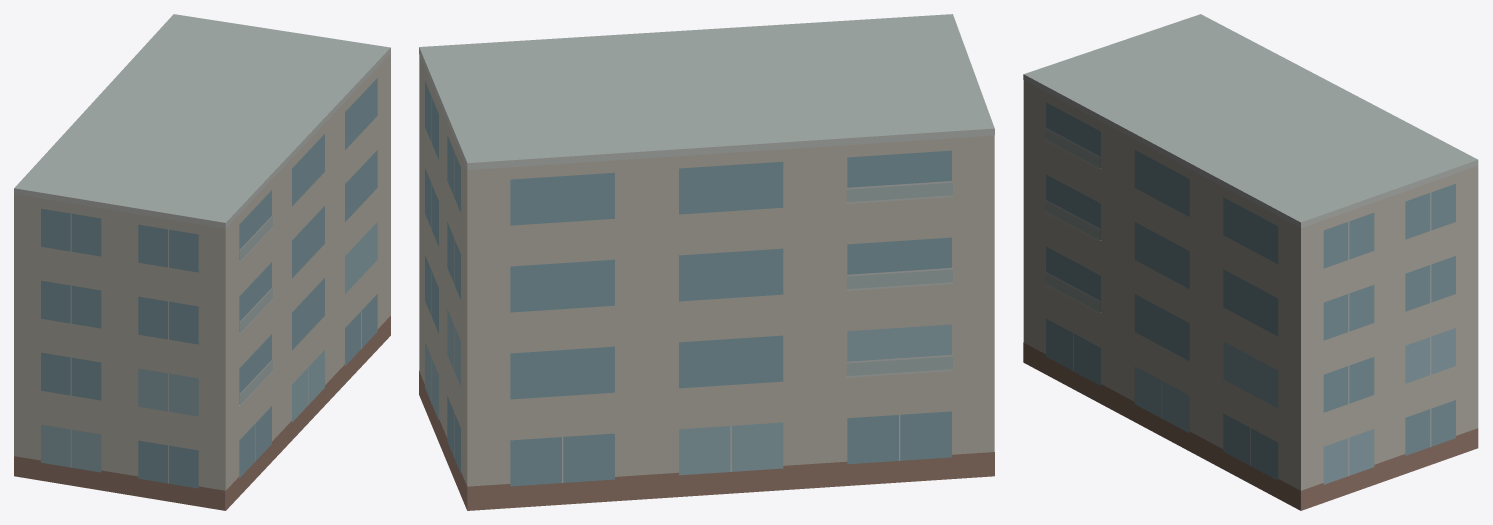
The model's file is survey-upis-32596871.glb.
The picture shows the model from 3 angles, left to right: view 1: azimuth 30°, elevation 25°; view 2: azimuth 150°, elevation 25°; view 3: azimuth 270°, elevation 25°; orthographic projection. The views are drawn at different scales.
Visible parts, largest first — view 1: survey-upis-32596871.tmp; view 2: survey-upis-32596871.tmp; view 3: survey-upis-32596871.tmp.
Boxes of the visible parts, left/top/right/bottom form: survey-upis-32596871.tmp: left=14, top=14, right=390, bottom=510; survey-upis-32596871.tmp: left=419, top=14, right=994, bottom=510; survey-upis-32596871.tmp: left=1023, top=14, right=1478, bottom=510.
Size of the model in its own units: 18.93 by 12.2 by 17.45.
